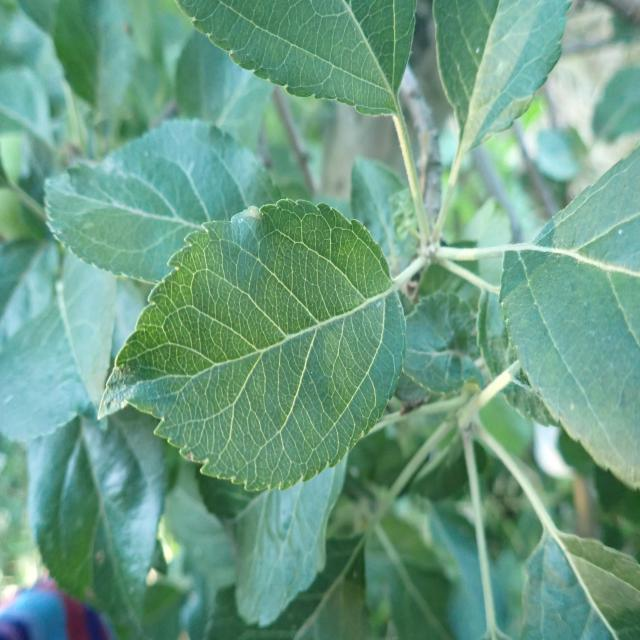healthy: (97, 198, 408, 494), (499, 138, 640, 488), (44, 116, 280, 284), (175, 0, 418, 117), (0, 241, 116, 443), (433, 0, 572, 154), (232, 458, 345, 628), (519, 528, 640, 640)
